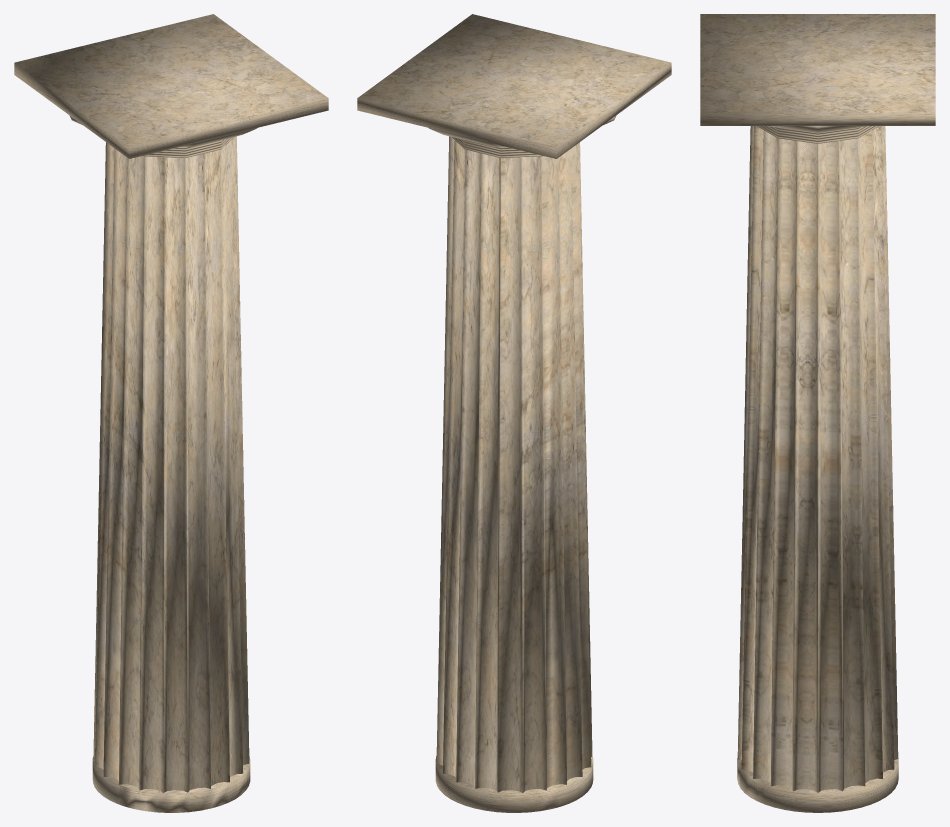
File: column.obj
The picture shows the model from 3 angles, left to right: view 1: azimuth 30°, elevation 25°; view 2: azimuth 150°, elevation 25°; view 3: azimuth 270°, elevation 25°; orthographic projection. The views are drawn at different scales.
Visible parts, largest first — view 1: column; view 2: column; view 3: column.
Boxes of the visible parts, x1=… form: column: x1=14, y1=14, x2=328, y2=812; column: x1=357, y1=14, x2=671, y2=812; column: x1=700, y1=14, x2=935, y2=812.
Size of the model in its own units: 10.84 by 36.3 by 10.84.
1 material, 1 textured.
